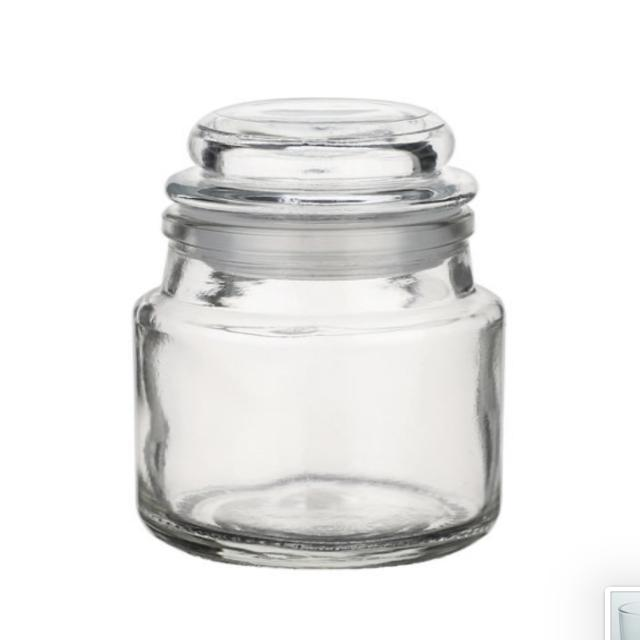recyclable: (113, 86, 531, 575)
